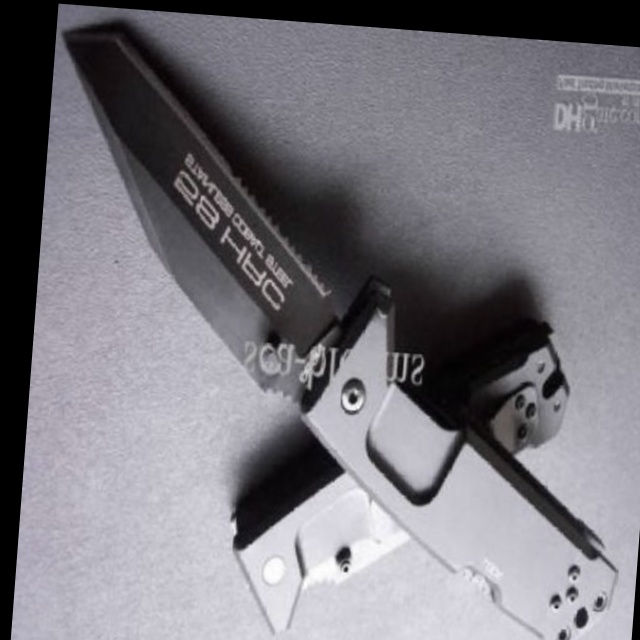Sharp-Object: (24, 29, 640, 640), (227, 302, 575, 640)
